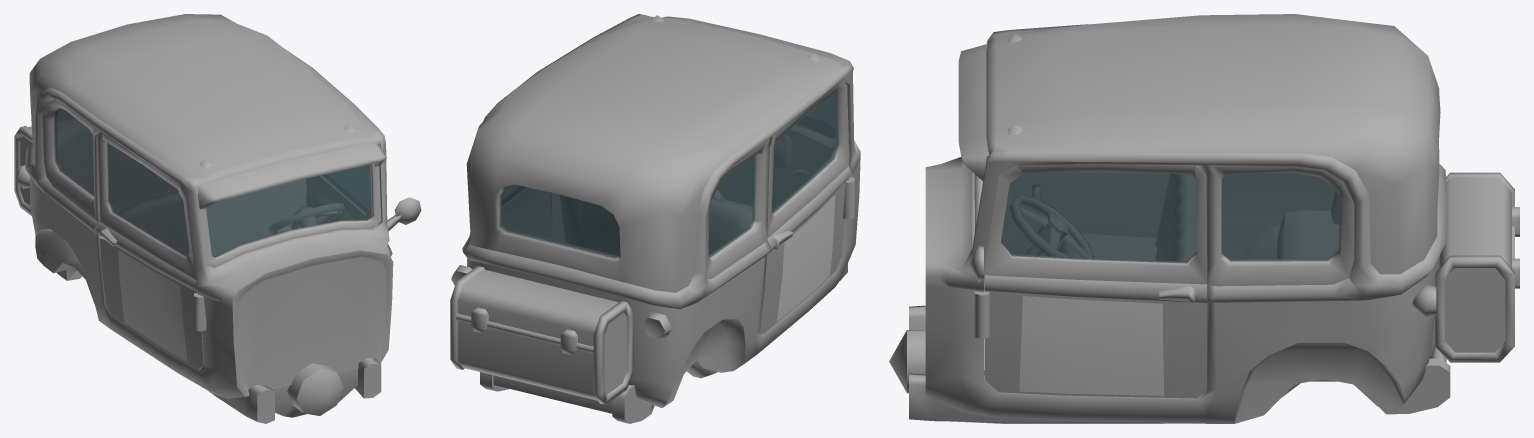
The model's file is Body_Tudor.fbx.
3 renders of one model, left to right at view 1: azimuth 30°, elevation 25°; view 2: azimuth 150°, elevation 25°; view 3: azimuth 270°, elevation 25°, orthographic. The views are drawn at different scales.
Visible parts, largest first — view 1: Tatra_Body_Mesh, Tatra_Body_Window_Mesh, Tatra_Door_Right_Mesh, Tatra_Door_Right_Window_Mesh, Tatra_Door_Right_Decal_Mesh, Tatra_Door_Left_Mesh, Tatra_Door_Left_Window_Mesh, Deuce_Body_SteerWheel_Geom_Mesh, Attachment_Back_Box_Mesh; view 2: Tatra_Body_Mesh, Attachment_Back_Box_Mesh, Tatra_Body_Window_Mesh, Tatra_Door_Right_Mesh, Tatra_Door_Right_Window_Mesh, Tatra_Door_Right_Decal_Mesh, Tatra_Door_Left_Mesh; view 3: Tatra_Body_Mesh, Tatra_Door_Left_Mesh, Tatra_Door_Left_Window_Mesh, Attachment_Back_Box_Mesh, Tatra_Door_Left_Decal_Mesh, Tatra_Body_Window_Mesh, Tatra_Door_Right_Mesh, Deuce_Body_SteerWheel_Geom_Mesh.
Part boxes in pixels (x1,y1,x2,y2): Tatra_Body_Mesh: (15, 14, 421, 423); Tatra_Body_Window_Mesh: (53, 108, 371, 257); Tatra_Door_Right_Mesh: (96, 132, 203, 369); Tatra_Door_Right_Window_Mesh: (107, 142, 189, 257); Tatra_Door_Right_Decal_Mesh: (118, 250, 187, 361); Tatra_Door_Left_Mesh: (306, 175, 371, 222); Tatra_Door_Left_Window_Mesh: (322, 165, 369, 212); Deuce_Body_SteerWheel_Geom_Mesh: (268, 203, 344, 234); Attachment_Back_Box_Mesh: (14, 126, 32, 215); Tatra_Body_Mesh: (451, 14, 860, 423); Attachment_Back_Box_Mesh: (450, 266, 633, 404); Tatra_Body_Window_Mesh: (499, 93, 835, 258); Tatra_Door_Right_Mesh: (760, 81, 851, 334); Tatra_Door_Right_Window_Mesh: (771, 93, 839, 213); Tatra_Door_Right_Decal_Mesh: (776, 195, 835, 321); Tatra_Door_Left_Mesh: (550, 193, 565, 242); Tatra_Body_Mesh: (889, 14, 1450, 423); Tatra_Door_Left_Mesh: (984, 164, 1207, 398); Tatra_Door_Left_Window_Mesh: (1001, 172, 1196, 263); Attachment_Back_Box_Mesh: (1435, 172, 1519, 362); Tatra_Door_Left_Decal_Mesh: (1019, 296, 1164, 395); Tatra_Body_Window_Mesh: (1221, 173, 1340, 261); Tatra_Door_Right_Mesh: (1001, 172, 1169, 255); Deuce_Body_SteerWheel_Geom_Mesh: (1009, 194, 1093, 258).
Bounding box in the file's own units: 172 × 181 × 308.
